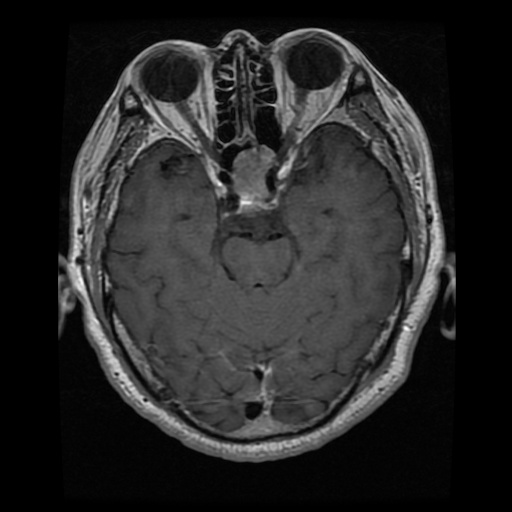pituitary: (231, 146, 273, 211)
